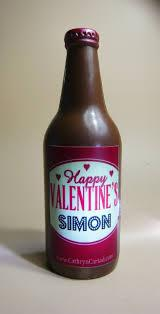Glass bottle: (40, 22, 141, 290)
